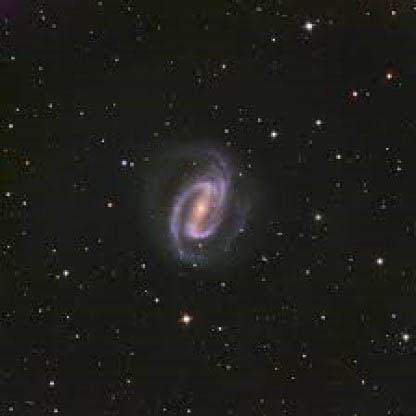NGC 1300: (126, 135, 286, 281)
